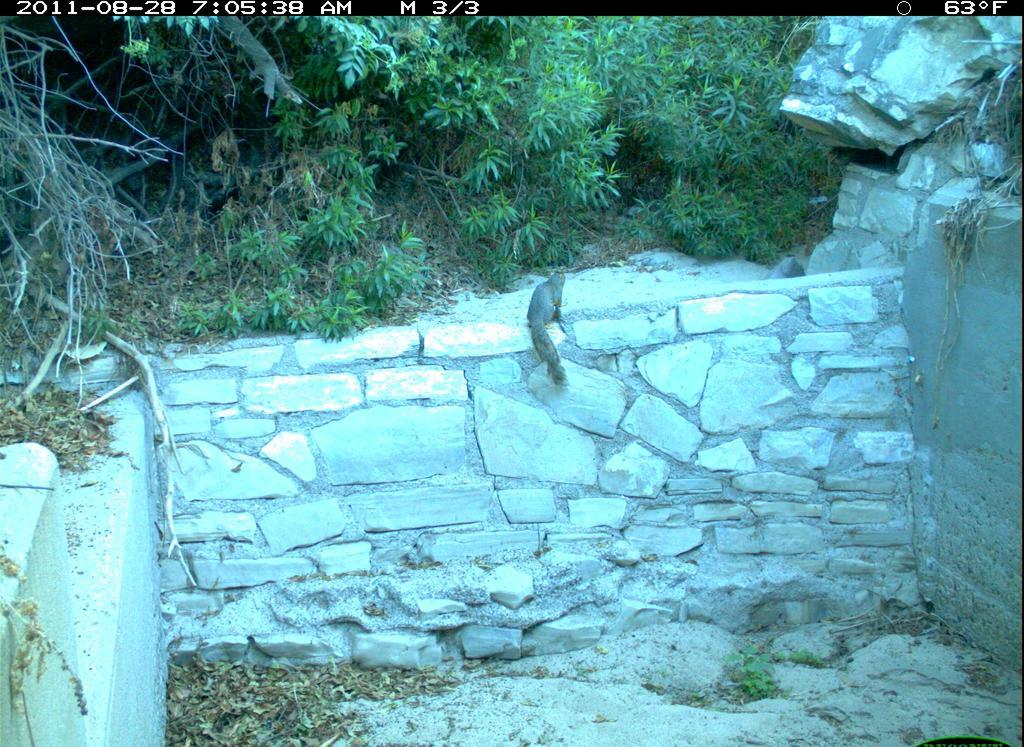squirrel: (521, 263, 584, 397)
